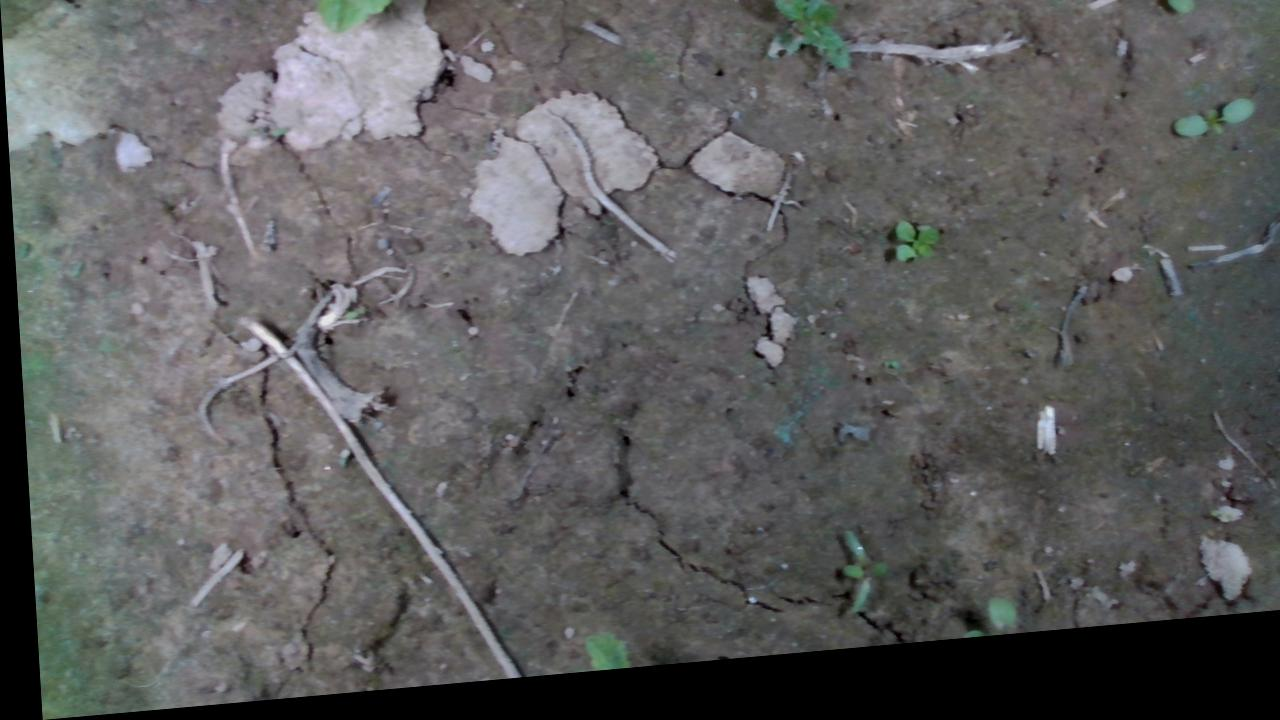weed: (760, 0, 848, 90), (828, 539, 880, 633), (1166, 118, 1253, 161), (888, 229, 936, 279), (1140, 0, 1194, 39)
